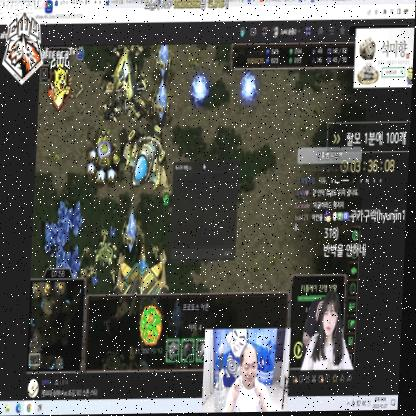streamer: (304, 290, 360, 372), (225, 345, 278, 413)
